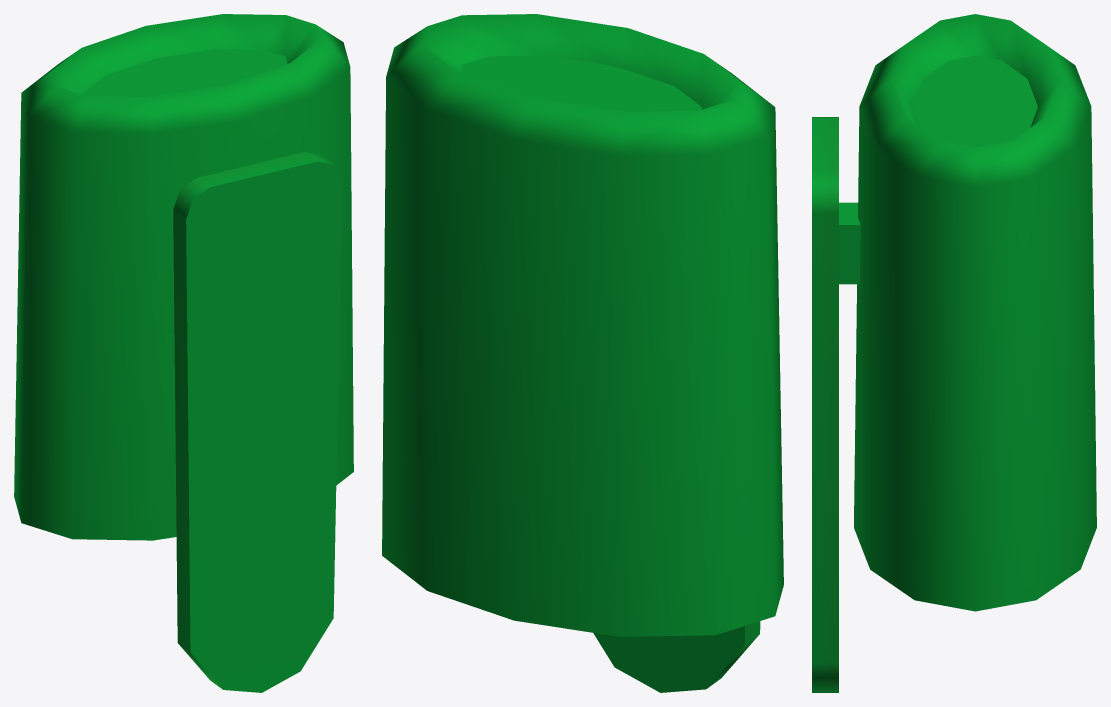
The model's file is Marker__01_cup.fbx.
3 views of the same model, side by side, from view 1: azimuth 30°, elevation 25°; view 2: azimuth 150°, elevation 25°; view 3: azimuth 270°, elevation 25° (orthographic). The views are drawn at different scales.
Parts seen in each view (by area): view 1: Marker__01_cup; view 2: Marker__01_cup; view 3: Marker__01_cup.
Part boxes in pixels (bbox=[...]): Marker__01_cup: bbox=[14, 14, 353, 692]; Marker__01_cup: bbox=[382, 14, 783, 692]; Marker__01_cup: bbox=[812, 14, 1096, 692].
Bounding box in the file's own units: 7.22 × 5.24 × 12.31.
